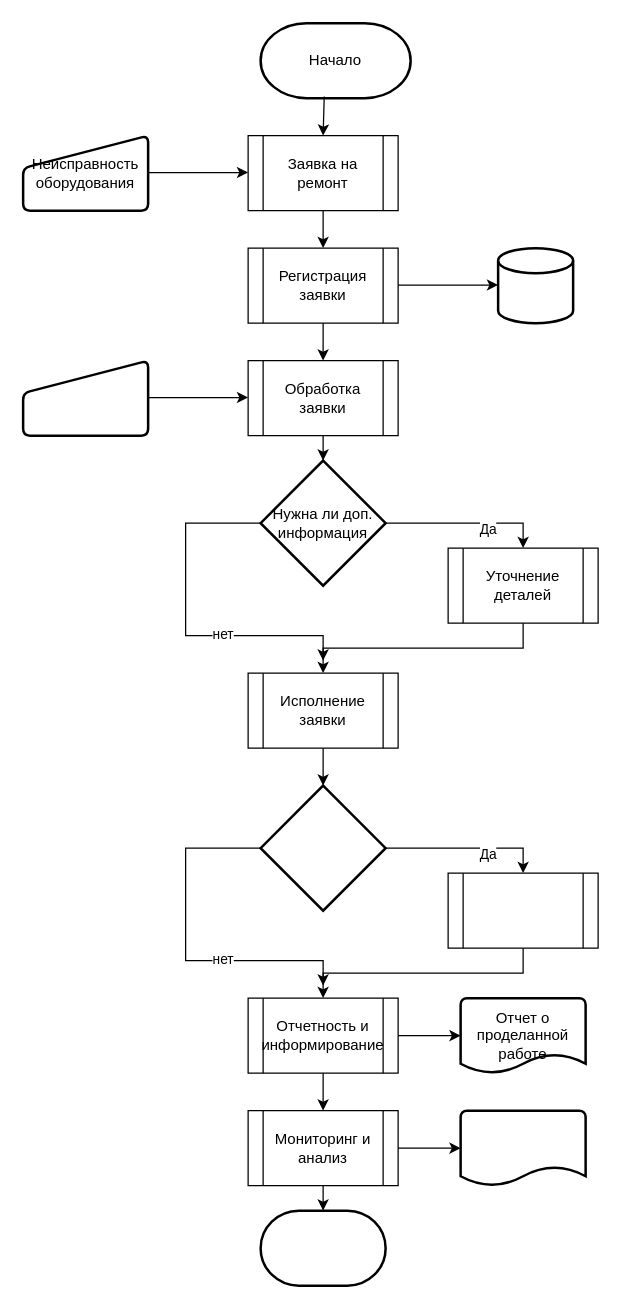
This 620x1308 diagram has some shape labels left out. The shapes that lost their labels are listed below. From the top down, each one's centre as x and y in pixels, then its label:
At (x=535, y=285): "Система учета заявок".
At (x=85, y=397): "Данные об исполнителе".
At (x=322, y=847): "Нужна ли доп. запчасти".
At (x=522, y=910): "Заказ деталей".
At (x=522, y=1147): "Контроль и анализ".
At (x=322, y=1247): "Конец".
